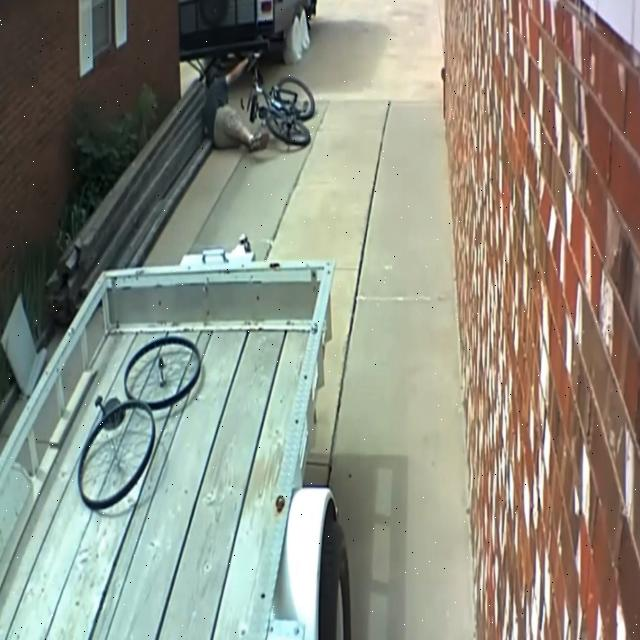fallen: (202, 53, 269, 152)
